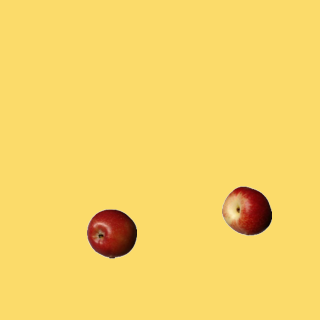Apple Braeburn: (86, 208, 136, 258)
Nectarine: (221, 185, 271, 235)
